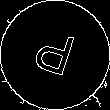P_S: (30, 25, 80, 85)
